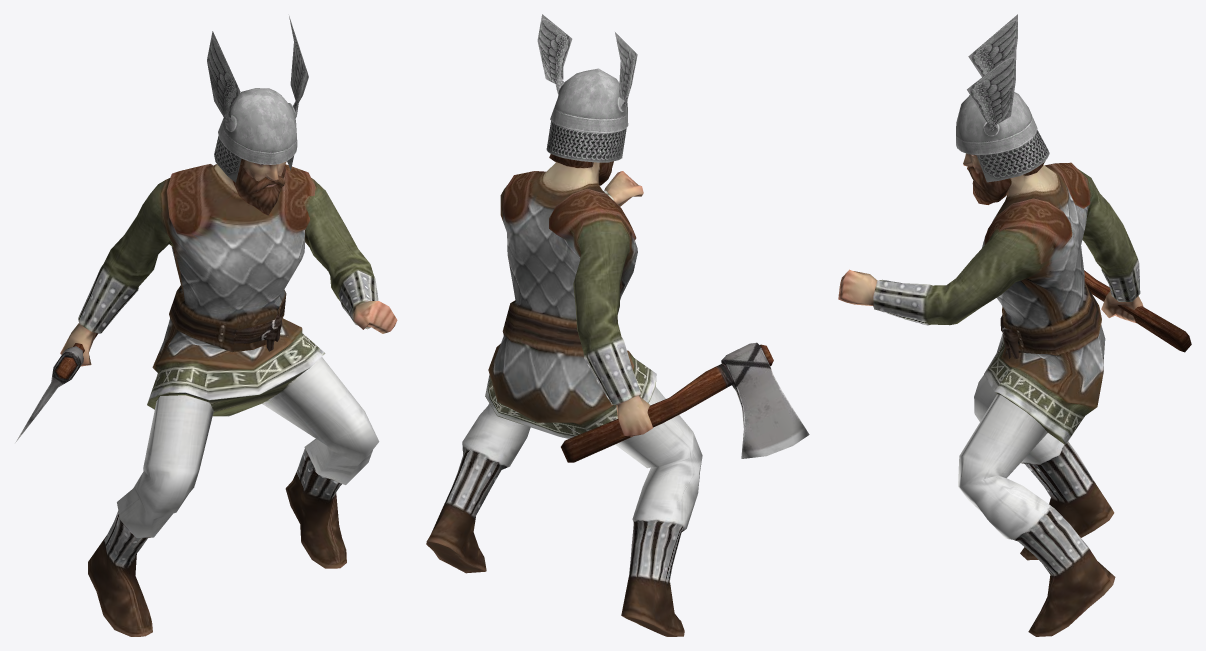
Rendered from rider-heavycavalry.glb.
The picture shows the model from 3 angles, left to right: view 1: azimuth 30°, elevation 25°; view 2: azimuth 150°, elevation 25°; view 3: azimuth 270°, elevation 25°; orthographic projection. The views are drawn at different scales.
Bounding box in the file's own units: 1.37 × 2.21 × 1.23.
Materials: 3 (3 with a texture image).
